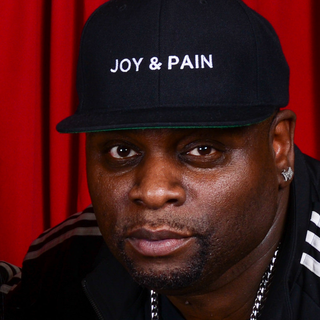eye: (179, 140, 223, 165), (102, 140, 142, 165)
